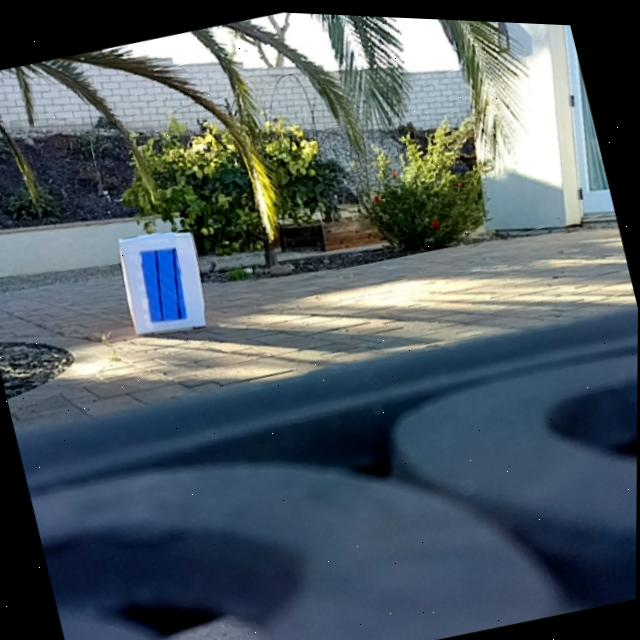led: (135, 244, 192, 325)
